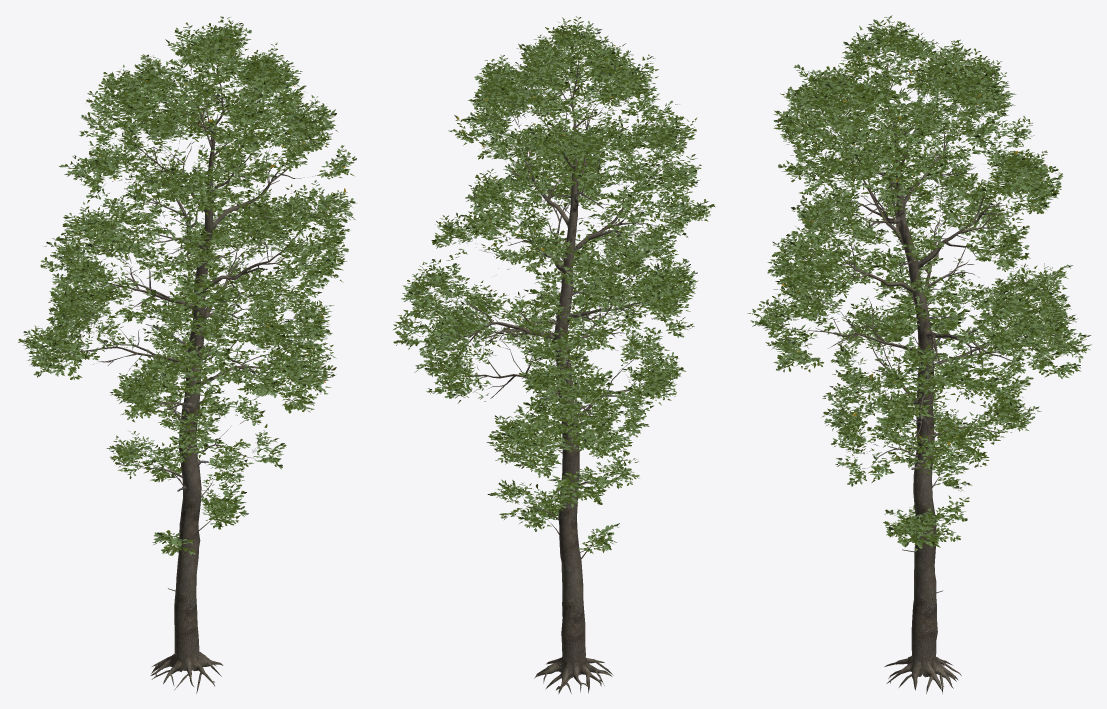
File: quercus-robur-colonised-ld-s61.glb
3 views of the same model, side by side, from view 1: azimuth 30°, elevation 25°; view 2: azimuth 150°, elevation 25°; view 3: azimuth 270°, elevation 25° (orthographic). The views are drawn at different scales.
Visible parts, largest first — view 1: ForestPlantCatalog_quercus-robur-colonised-ld-s61; view 2: ForestPlantCatalog_quercus-robur-colonised-ld-s61; view 3: ForestPlantCatalog_quercus-robur-colonised-ld-s61.
Part boxes in pixels (x1=…): ForestPlantCatalog_quercus-robur-colonised-ld-s61: x1=18, y1=16, x2=356, y2=693; ForestPlantCatalog_quercus-robur-colonised-ld-s61: x1=393, y1=16, x2=715, y2=693; ForestPlantCatalog_quercus-robur-colonised-ld-s61: x1=747, y1=15, x2=1091, y2=693.
Bounding box in the file's own units: 6.76 × 15 × 6.99.
Materials: 14 (14 with a texture image).
